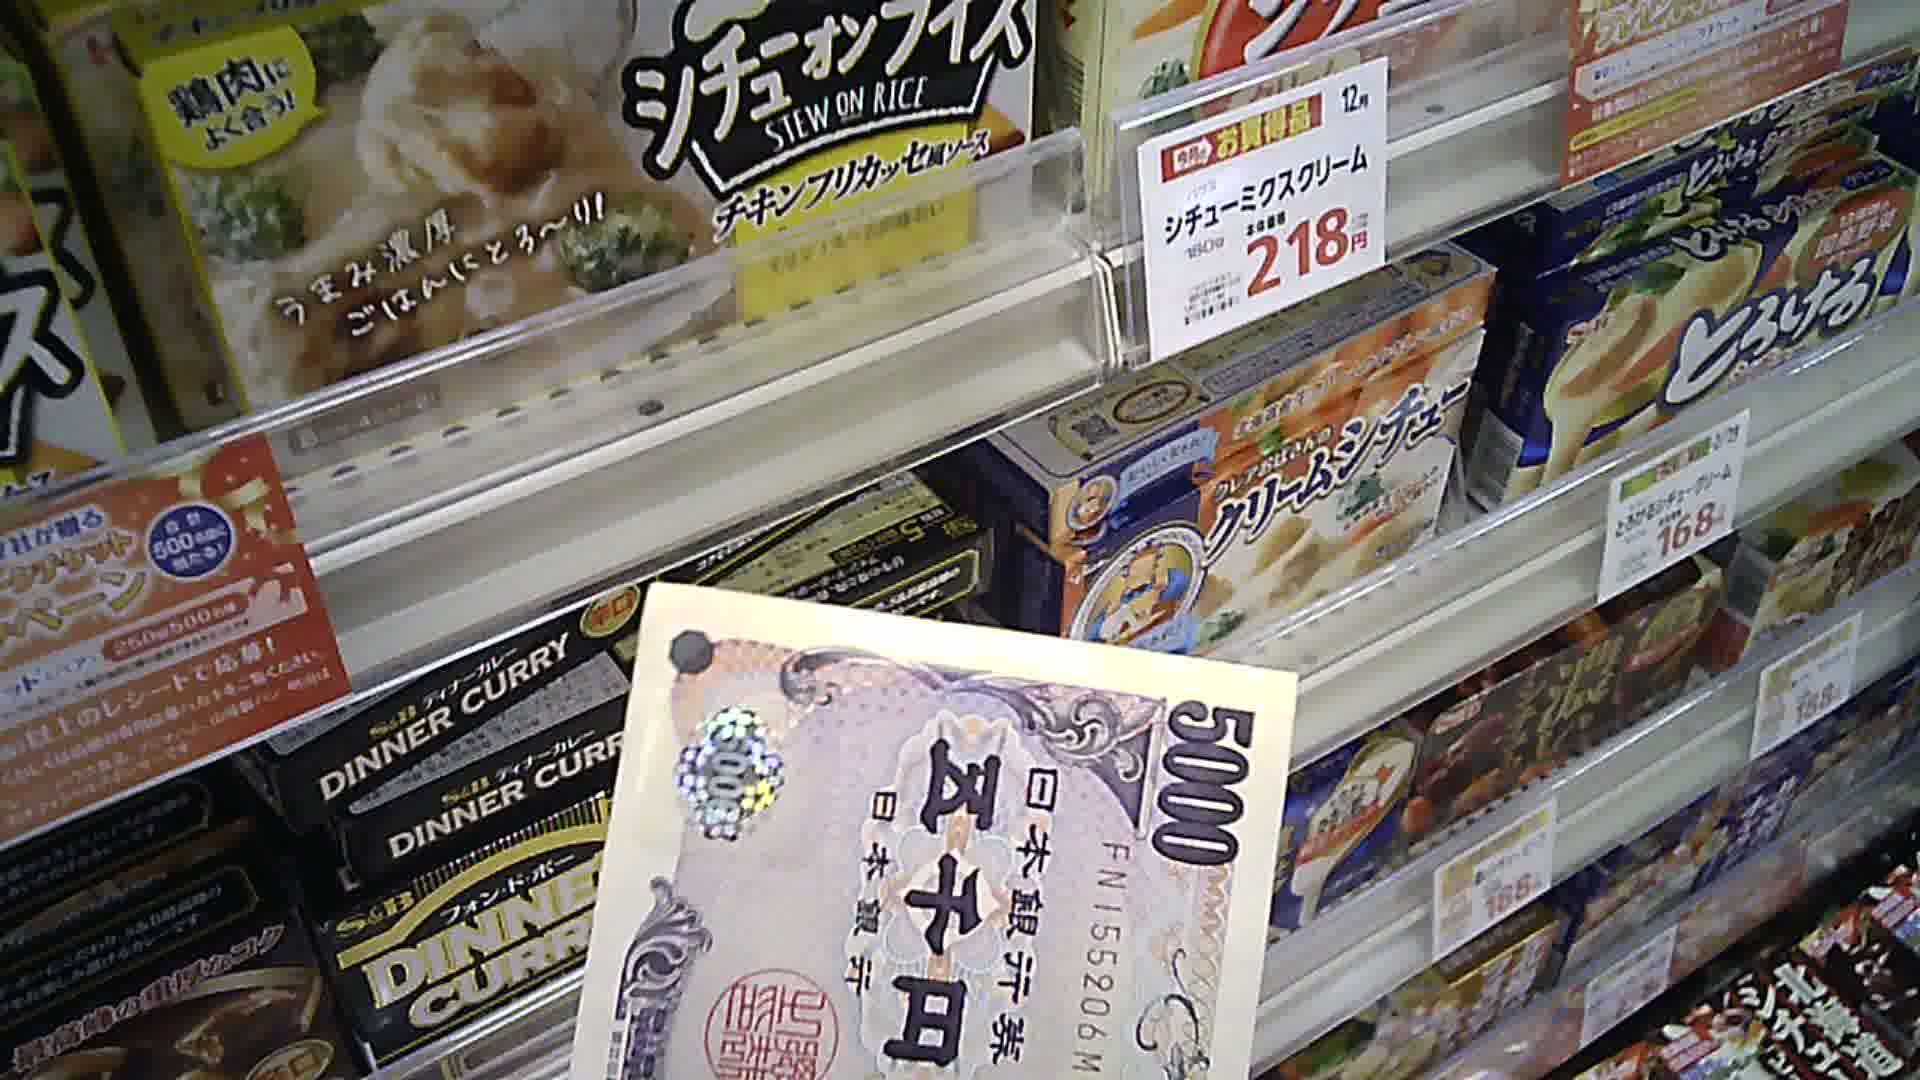5,000 Yen: (600, 585, 1259, 1077)
